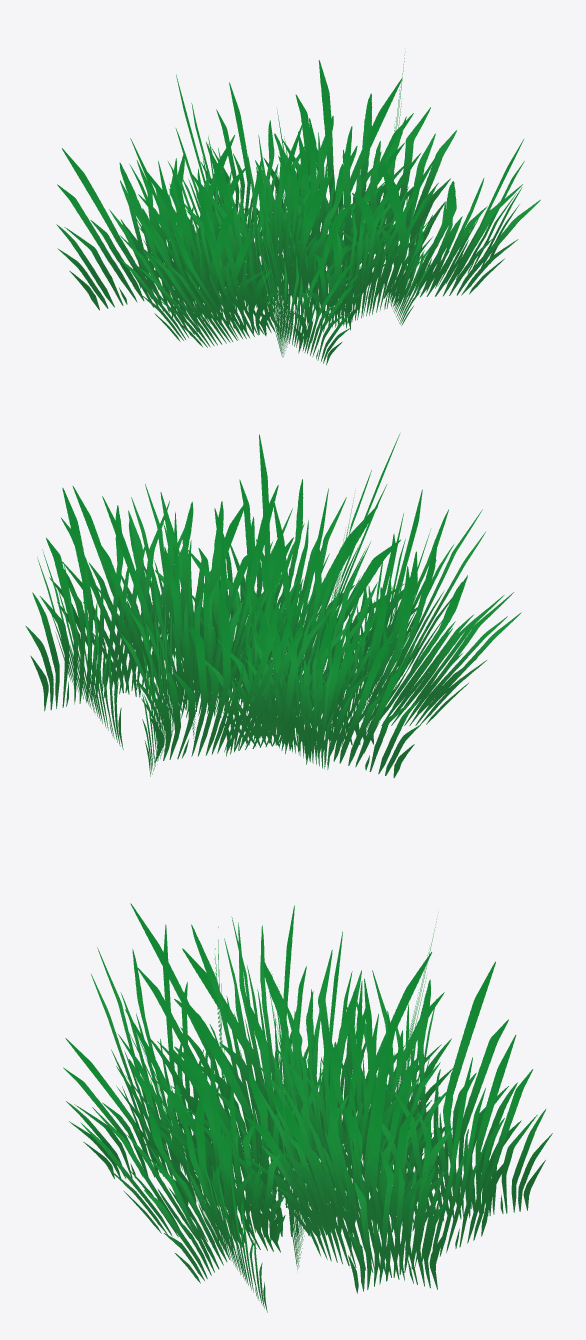
File: PT_Grass_02.fbx
3 views of the same model, one above another, from view 1: azimuth 30°, elevation 25°; view 2: azimuth 150°, elevation 25°; view 3: azimuth 270°, elevation 25° (orthographic). The views are drawn at different scales.
Visible parts, largest first — view 1: PT_Grass_02_LOD0; view 2: PT_Grass_02_LOD0; view 3: PT_Grass_02_LOD0.
Boxes of the visible parts, x1,y1,x2,y2 form: PT_Grass_02_LOD0: (56, 52, 540, 365); PT_Grass_02_LOD0: (25, 433, 521, 777); PT_Grass_02_LOD0: (63, 903, 552, 1312).
Size of what is drawn, in the model's own units: 124 by 68.42 by 99.38.
1 material, 1 textured.
